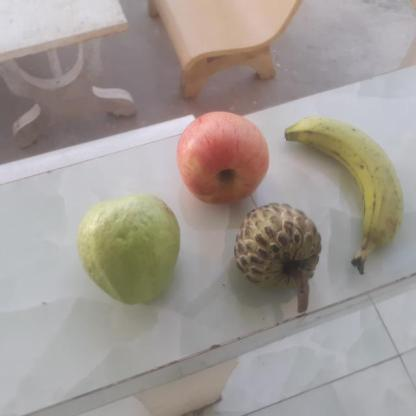annona: (232, 203, 322, 297)
apple: (172, 108, 273, 205)
banana: (281, 116, 403, 257)
guava: (75, 196, 176, 304)
